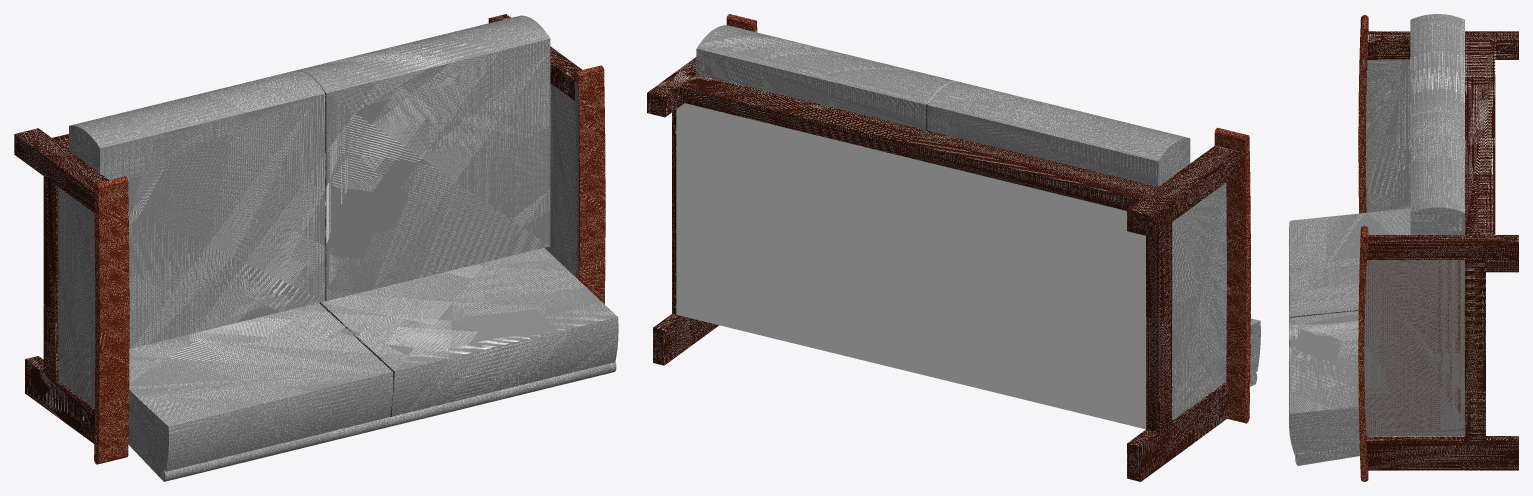
The picture shows the model from 3 angles, left to right: view 1: azimuth 30°, elevation 25°; view 2: azimuth 150°, elevation 25°; view 3: azimuth 270°, elevation 25°; orthographic projection. The views are drawn at different scales.
Visible parts, largest first — view 1: couch; view 2: couch; view 3: couch.
Part boxes in pixels (bbox=[...]): couch: bbox=[14, 14, 618, 481]; couch: bbox=[647, 14, 1260, 481]; couch: bbox=[1289, 14, 1518, 481].
Size of the model in its own units: 105 by 59.56 by 47.09.
